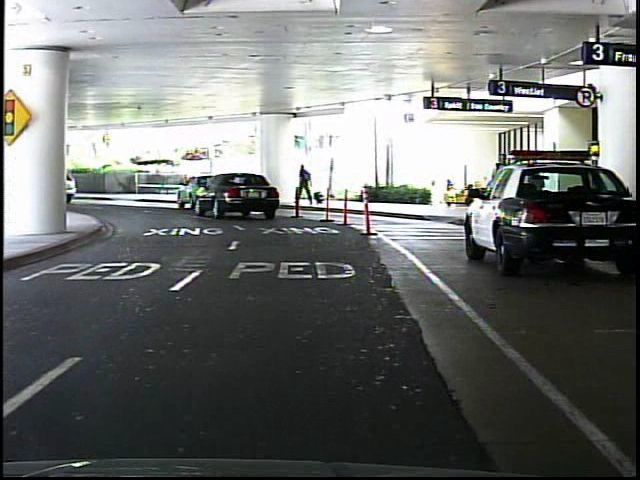person: (294, 161, 320, 208)
